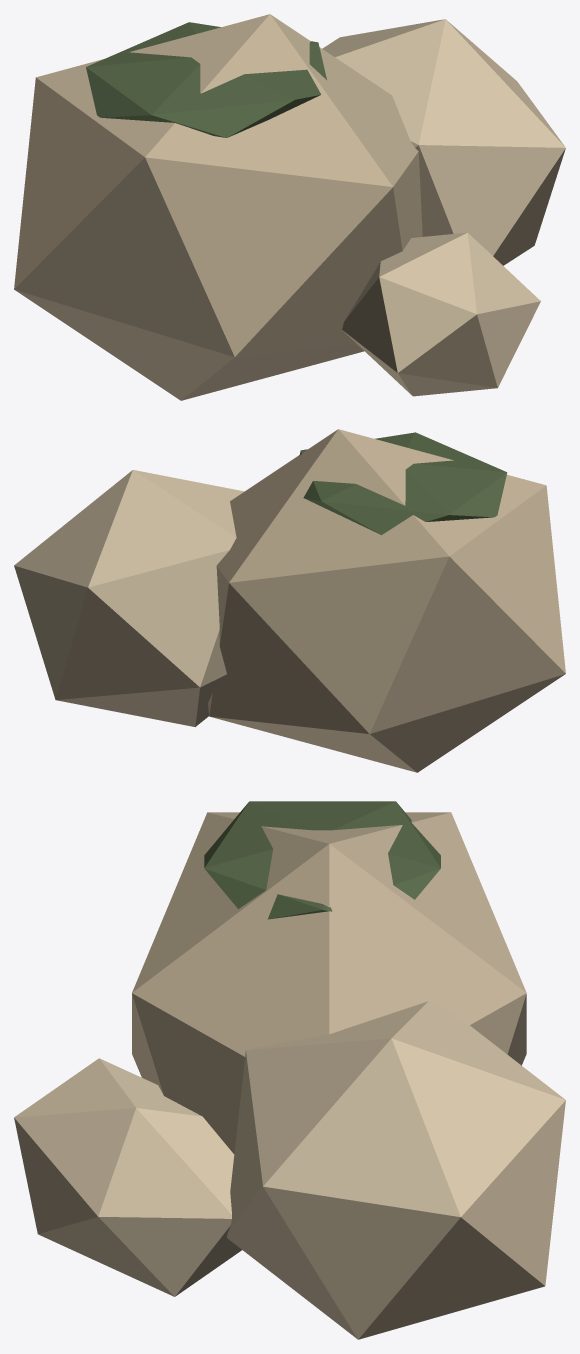
Rendered from rock_cluster.glb.
The picture shows the model from 3 angles, top to bottom: view 1: azimuth 30°, elevation 25°; view 2: azimuth 150°, elevation 25°; view 3: azimuth 270°, elevation 25°; orthographic projection. The views are drawn at different scales.
Visible parts, largest first — view 1: rock_cluster; view 2: rock_cluster; view 3: rock_cluster.
Part boxes in pixels (x1,y1,x2,y2): rock_cluster: (14,14,565,400); rock_cluster: (14,429,565,772); rock_cluster: (14,801,565,1339).
Size of the model in its own units: 1.09 by 0.6782 by 0.8324.
